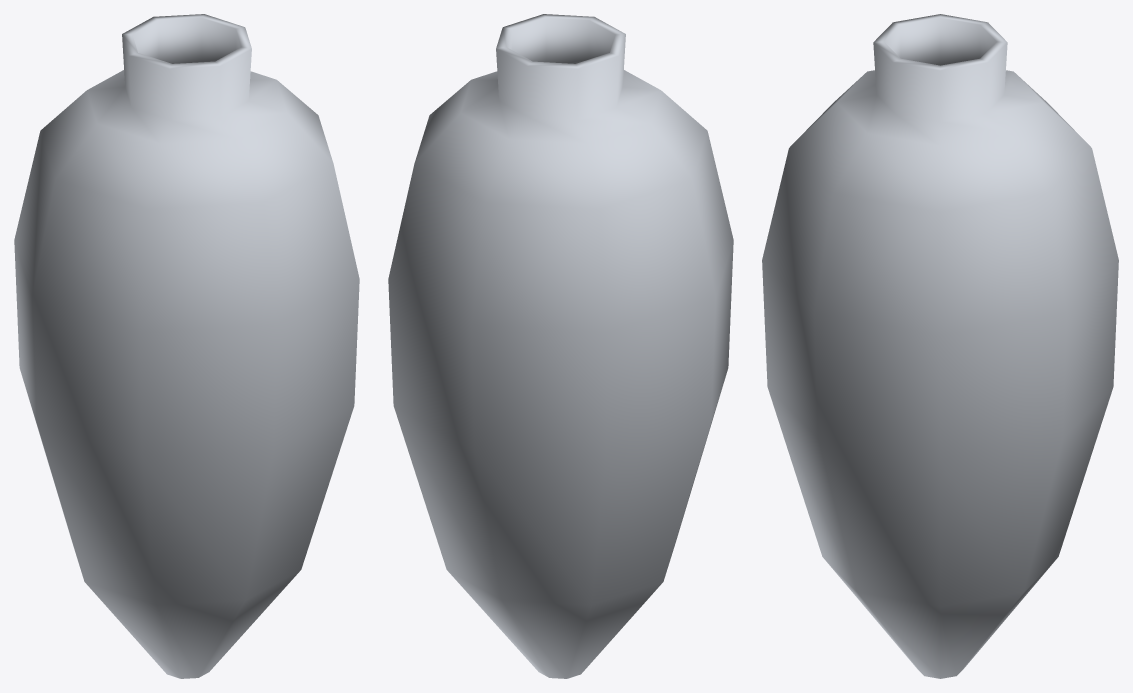
File: bottle_glassware_pear_shaped_flask_medium.fbx
The picture shows the model from 3 angles, left to right: view 1: azimuth 30°, elevation 25°; view 2: azimuth 150°, elevation 25°; view 3: azimuth 270°, elevation 25°; orthographic projection.
Parts seen in each view (by area): view 1: bottle_glassware_pear_shaped_flask_medium; view 2: bottle_glassware_pear_shaped_flask_medium; view 3: bottle_glassware_pear_shaped_flask_medium.
Boxes of the visible parts, x1=… form: bottle_glassware_pear_shaped_flask_medium: x1=14, y1=14, x2=359, y2=678; bottle_glassware_pear_shaped_flask_medium: x1=388, y1=14, x2=733, y2=678; bottle_glassware_pear_shaped_flask_medium: x1=762, y1=14, x2=1118, y2=678.
Size of the model in its own units: 1312 by 2546 by 1312.
Materials: 1 (1 with a texture image).
